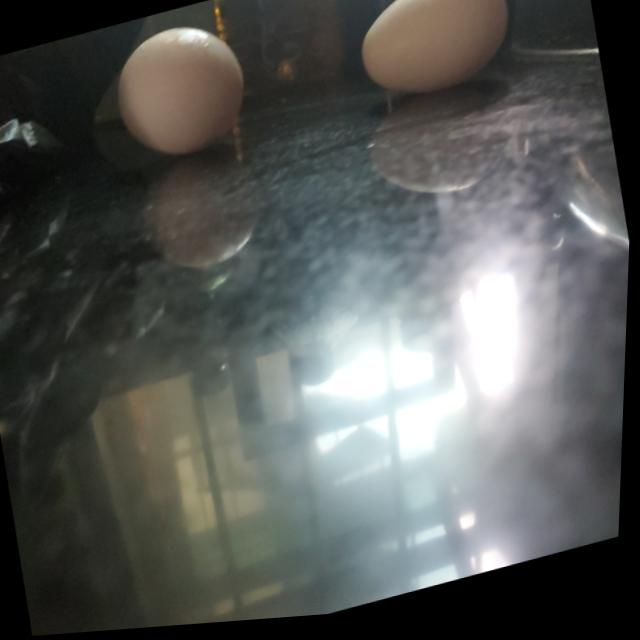egg: (103, 13, 258, 172), (345, 0, 524, 120)
